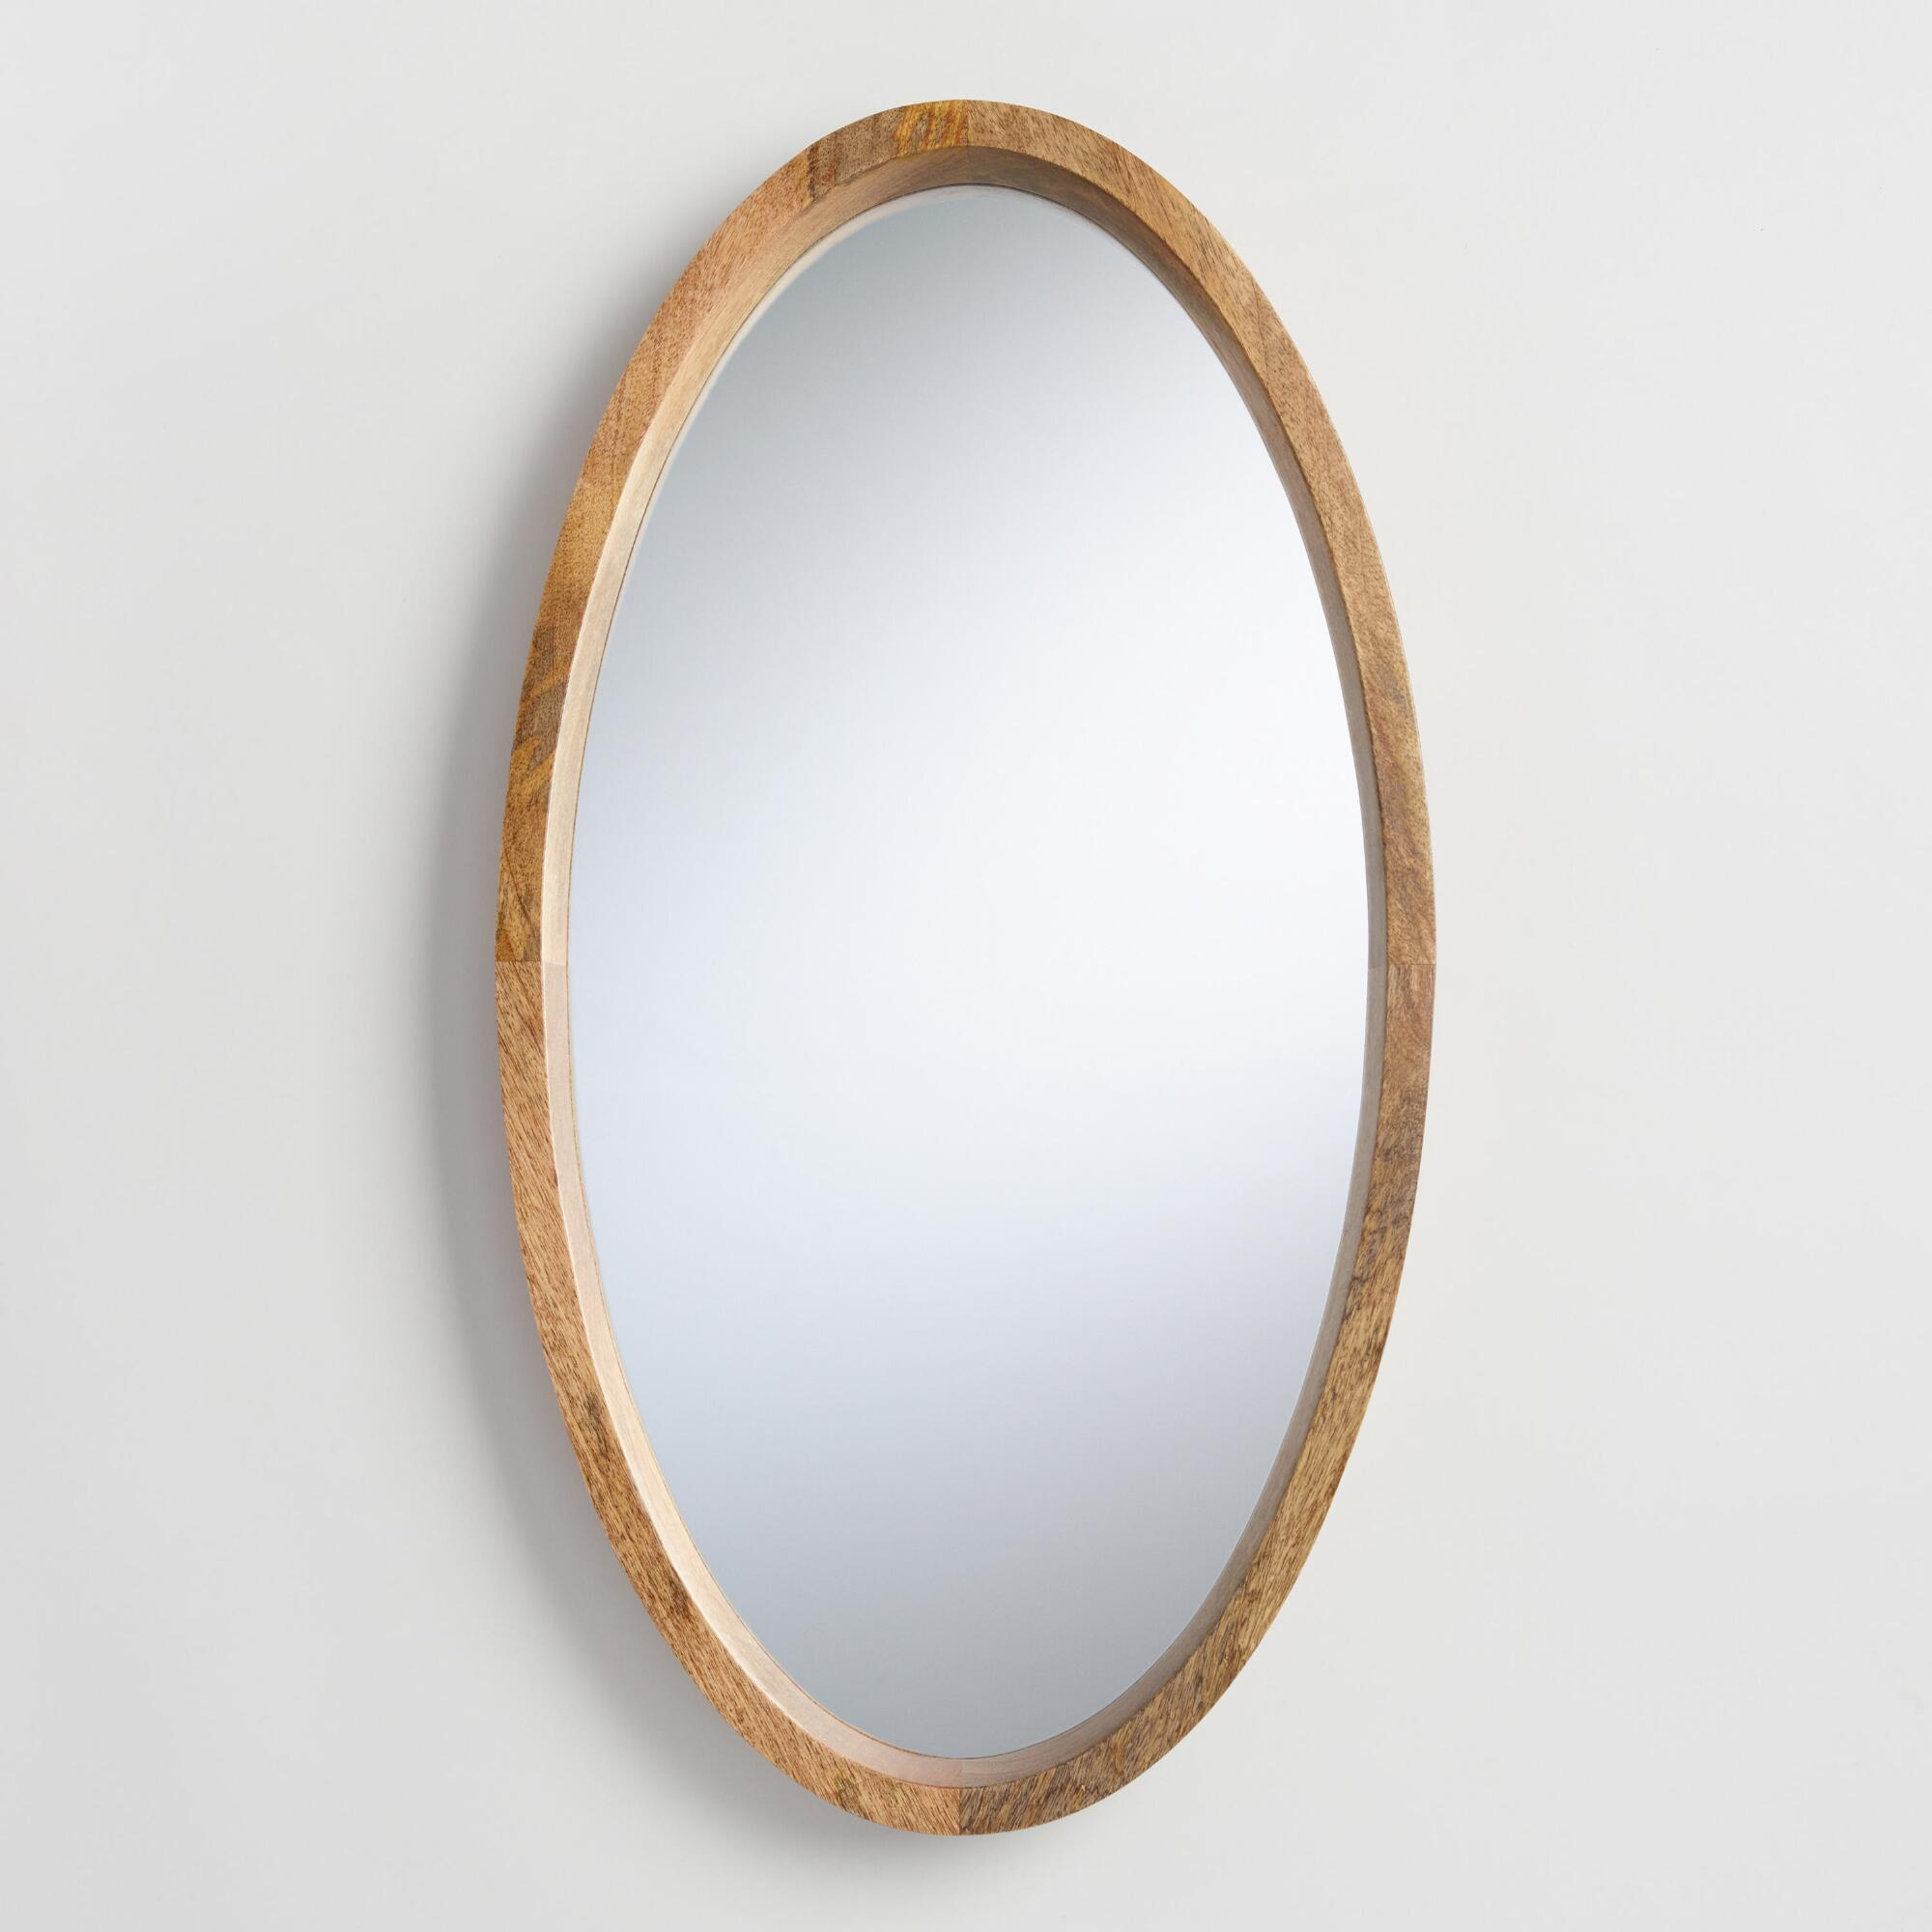Nonrec_Glass: (433, 32, 1522, 1835)
